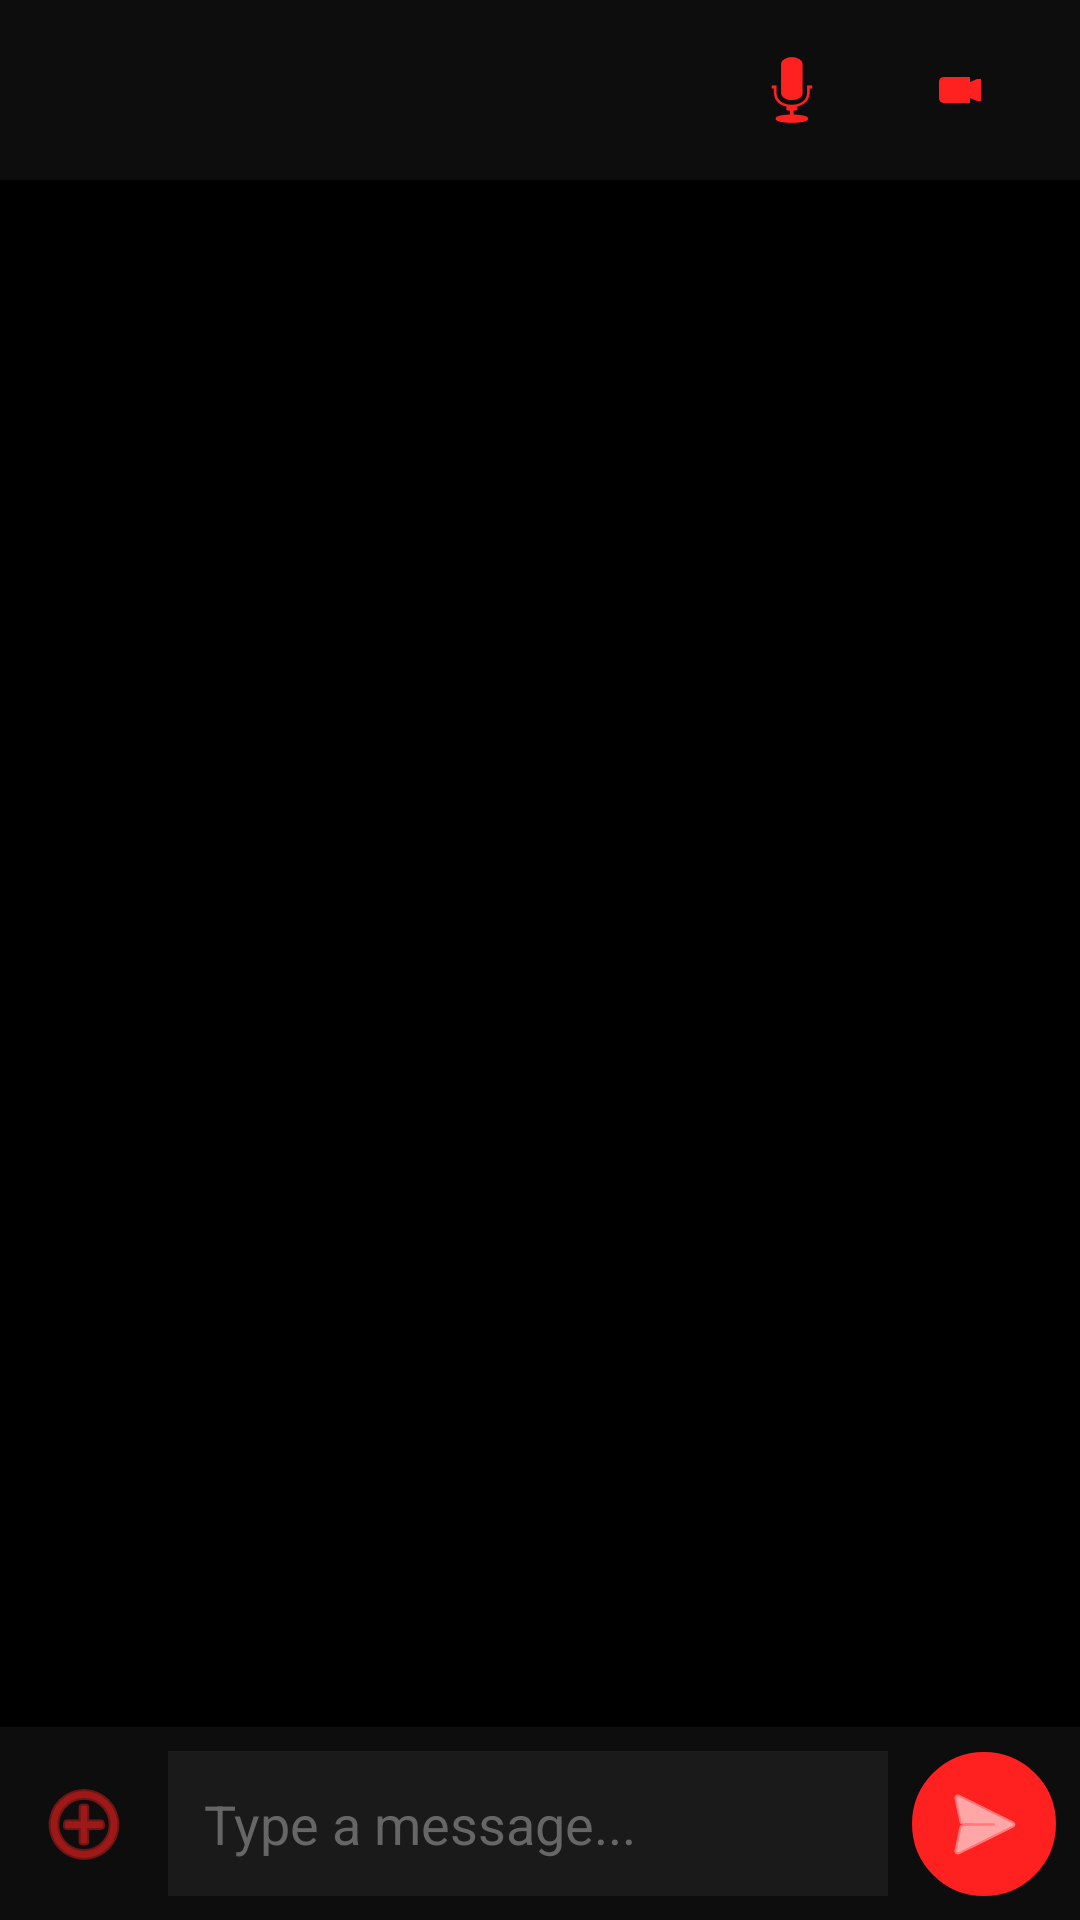

Icon bounding boxes for this 1080 x 1920 phone screenshot, format box(x1, y1, x2, y2):
Attach: box(48, 1789, 120, 1860)
Send: box(912, 1752, 1056, 1896)
Video Call: box(939, 77, 981, 103)
Voice Call: box(771, 57, 813, 123)
